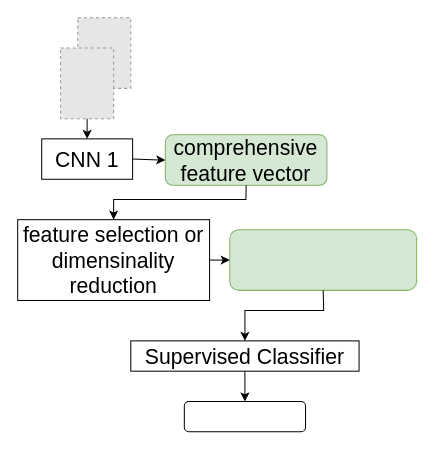
This 434x449 diagram has some shape labels left out. Grey dashed boxes stand in for pictures. The shapes that lost their labels are listed below. From the top down, each one's box as (x1, y1, x2, y2) in pixels, then its label:
(229, 229, 417, 290): features vector of n dimensions
(183, 400, 306, 432): Result
